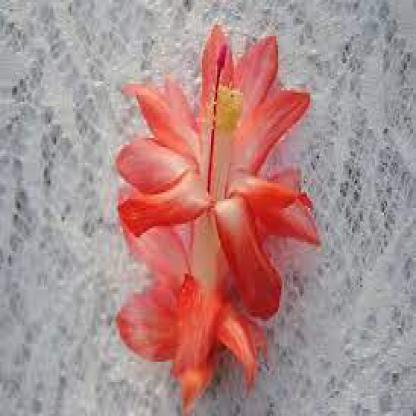Aglonema: (46, 141, 343, 363)
